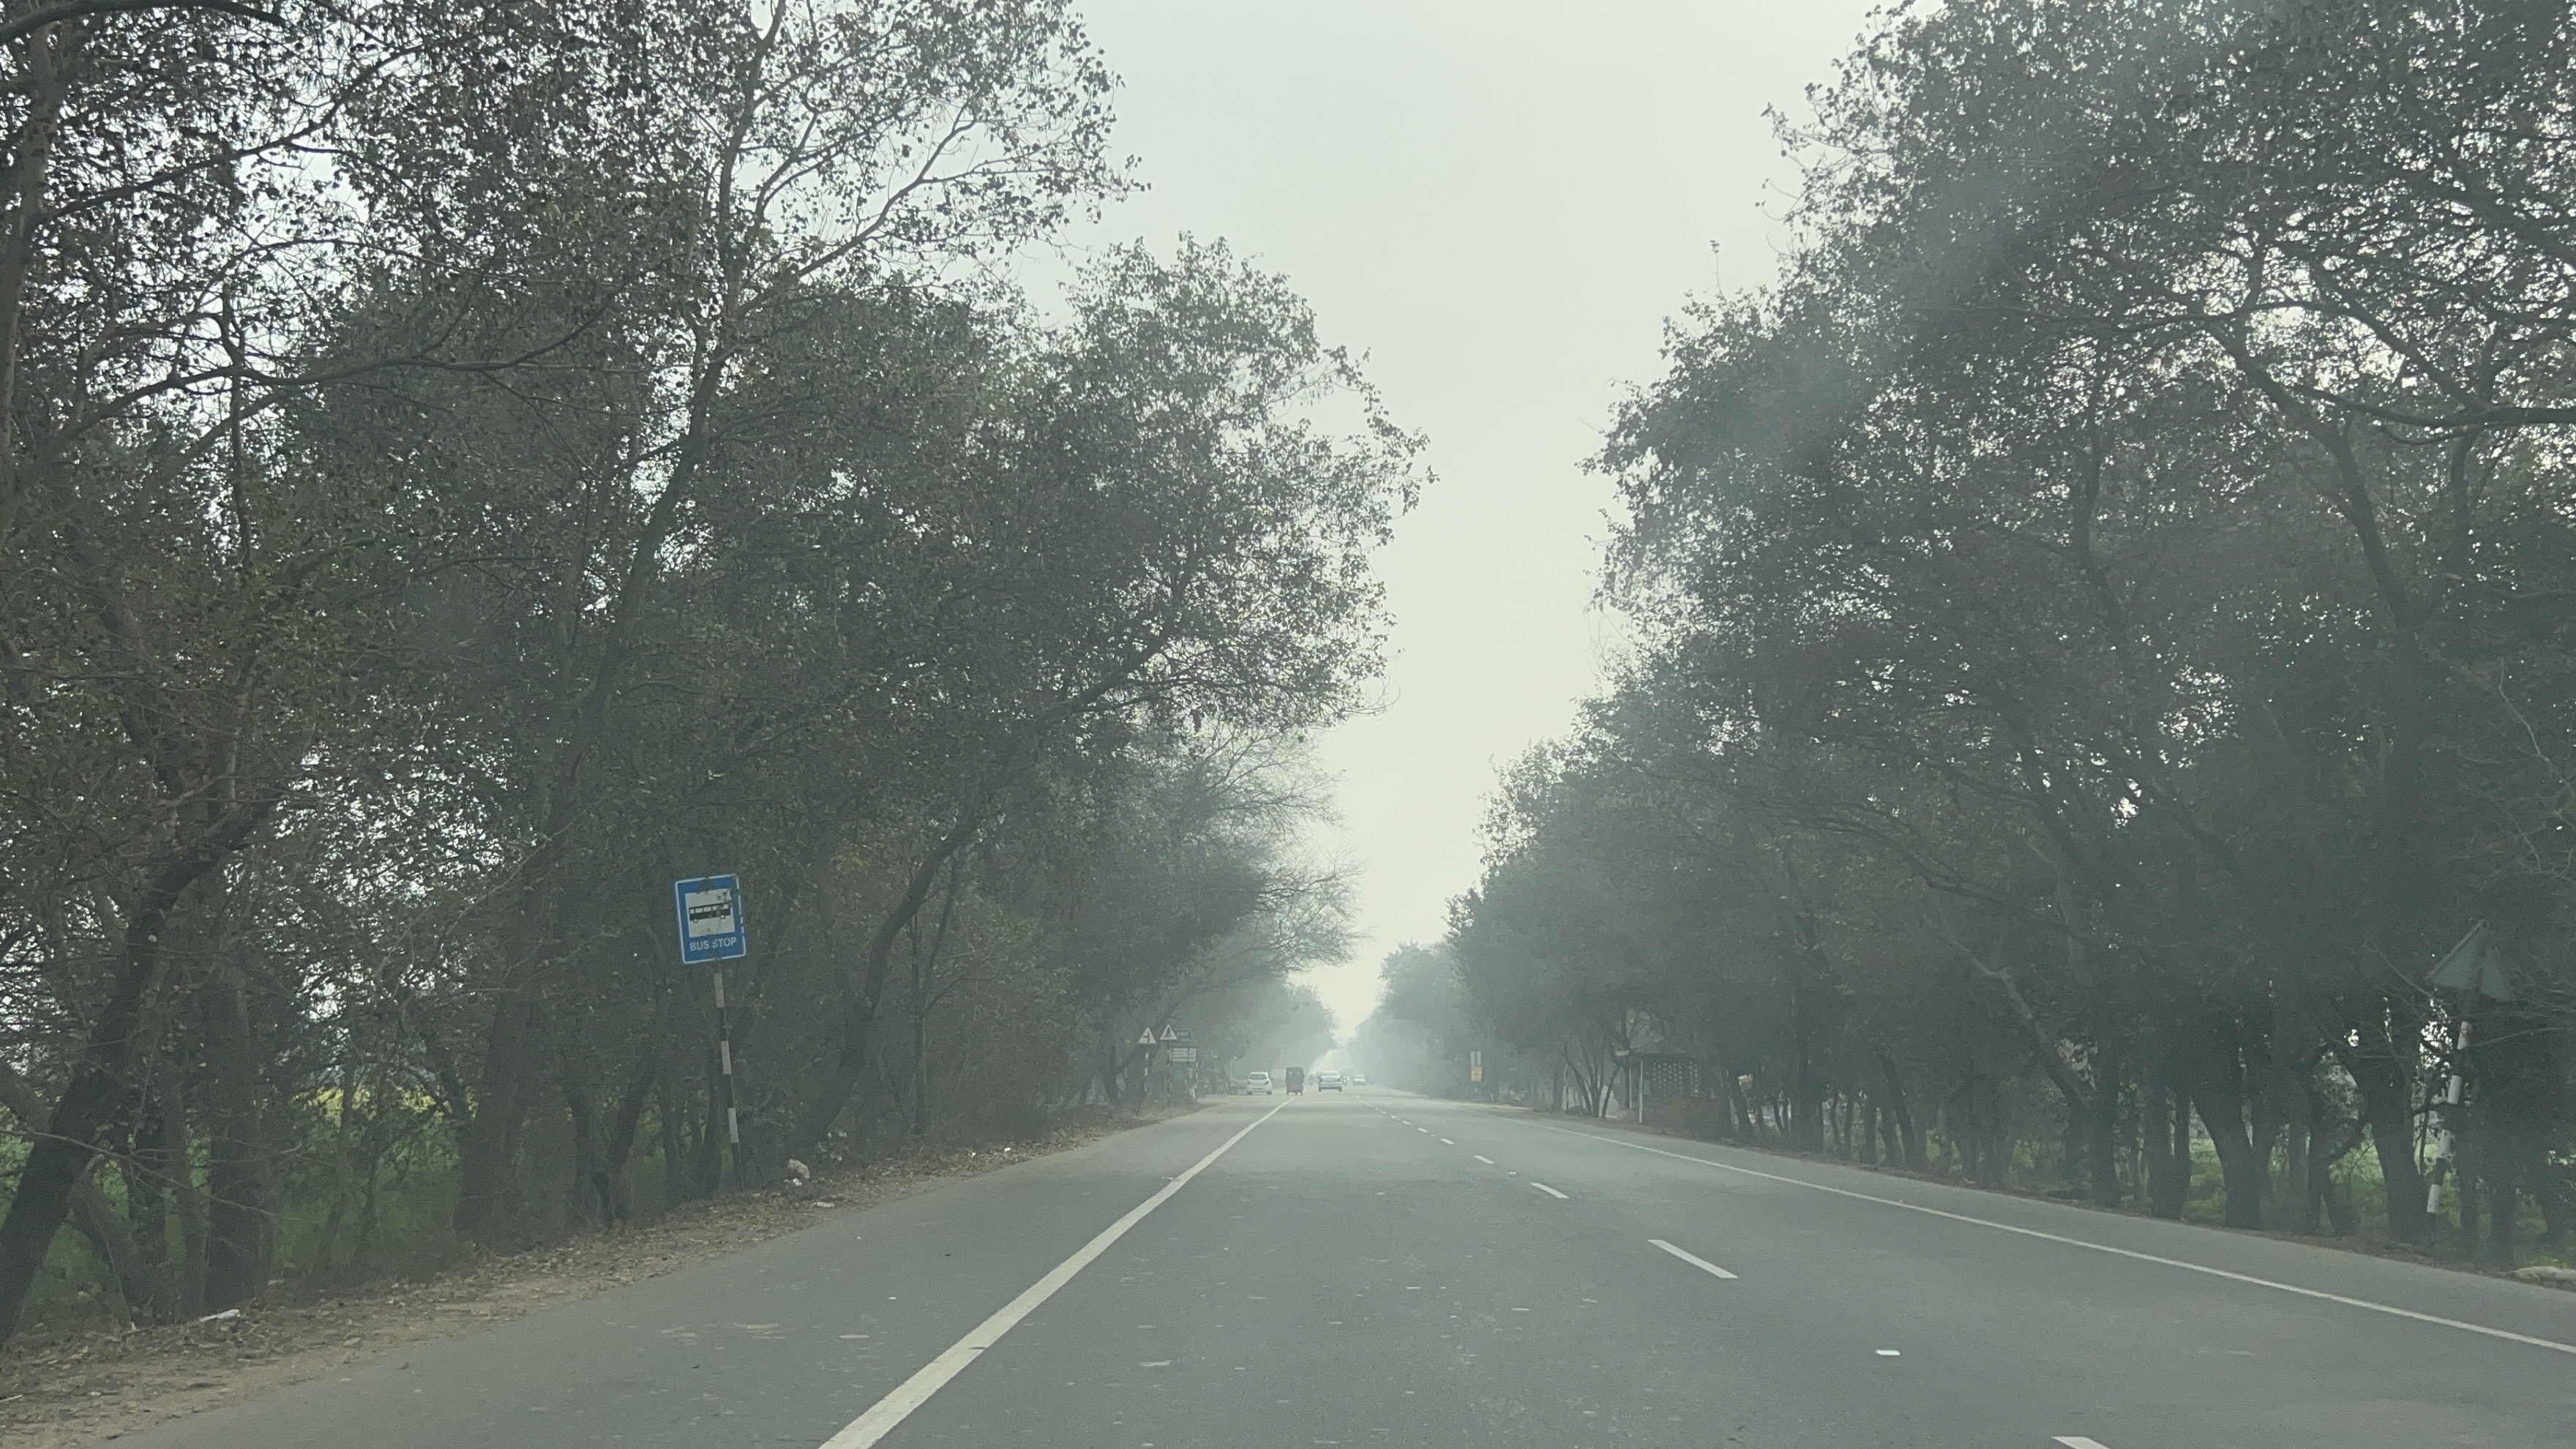Informatory: (665, 863, 757, 968)
Warning: (1131, 1023, 1168, 1056)
